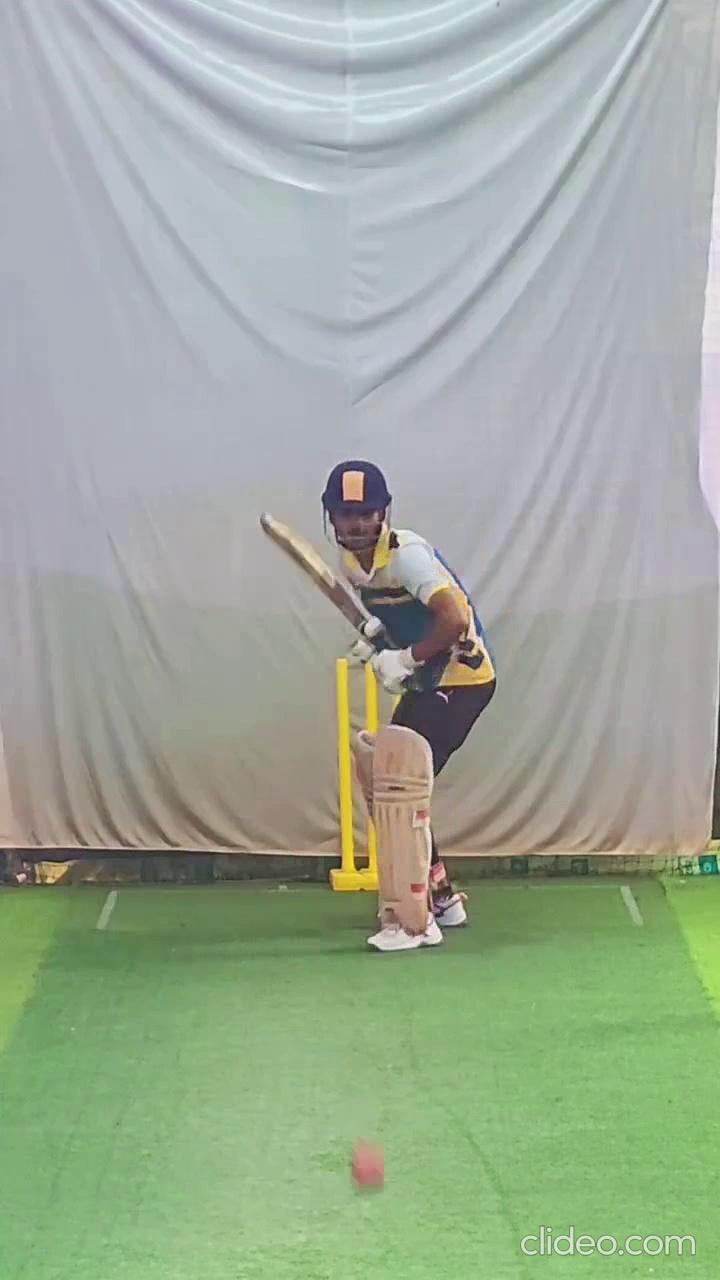bat: (250, 497, 370, 644)
